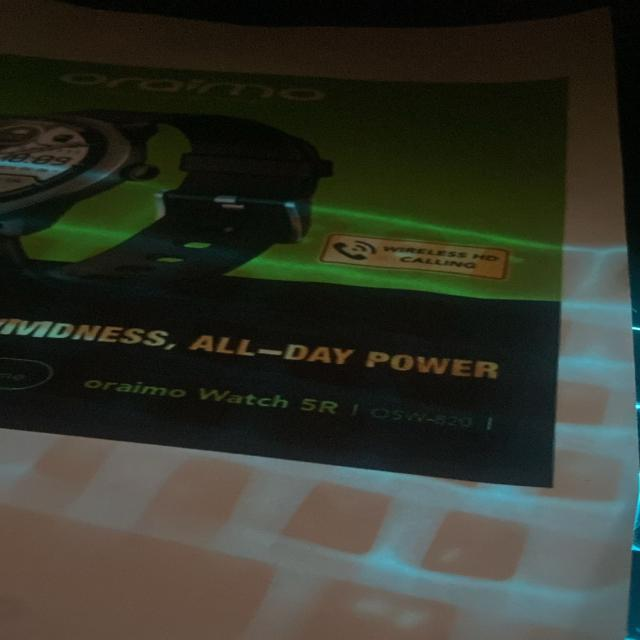Oraimo Watch 5R OSW-820: (75, 374, 513, 439)
